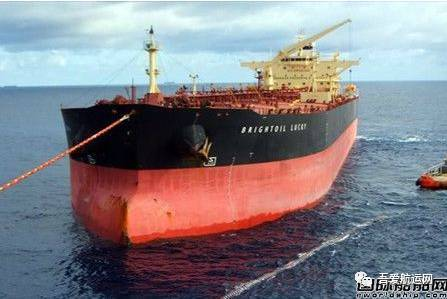Cargoship: (54, 16, 363, 249)
